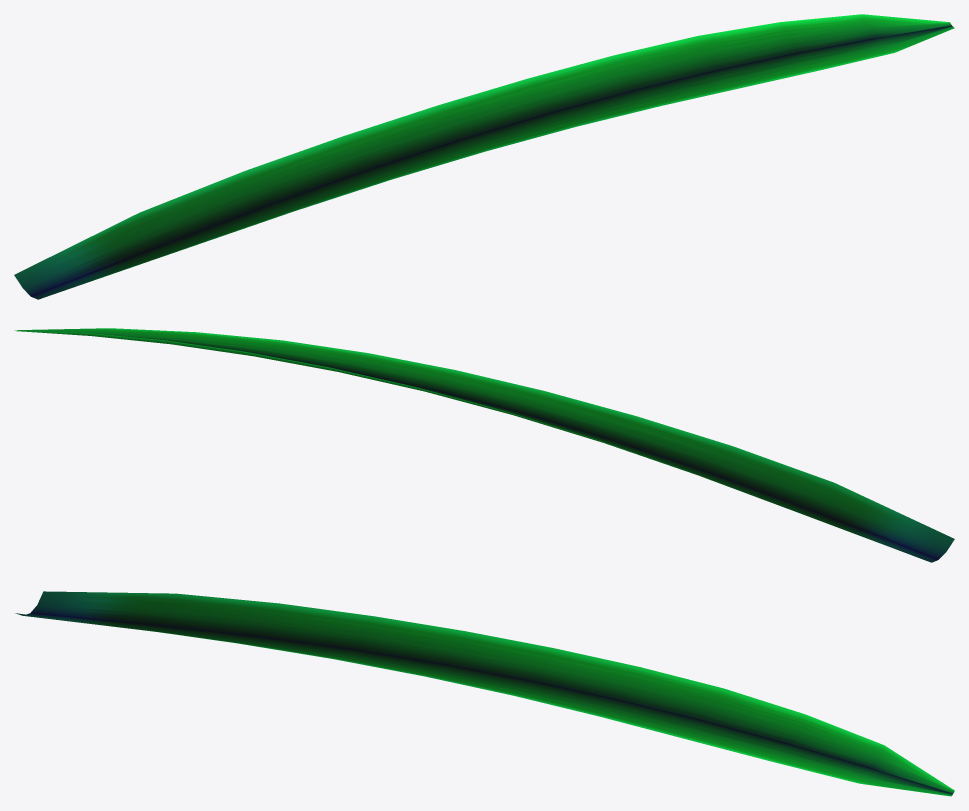
The model's file is IO_FiberPlant_A_Leaf.glb.
3 views of the same model, one above another, from view 1: azimuth 30°, elevation 25°; view 2: azimuth 150°, elevation 25°; view 3: azimuth 330°, elevation 25° (orthographic). The views are drawn at different scales.
Parts seen in each view (by area): view 1: IO_FiberPlant_A_Leaf_LOD0; view 2: IO_FiberPlant_A_Leaf_LOD0; view 3: IO_FiberPlant_A_Leaf_LOD0.
Boxes of the visible parts, <box> form: IO_FiberPlant_A_Leaf_LOD0: <box>14,14,954,299</box>; IO_FiberPlant_A_Leaf_LOD0: <box>15,328,954,562</box>; IO_FiberPlant_A_Leaf_LOD0: <box>15,591,954,796</box>.
Size of what is drawn, in the model's own units: 0.7962 by 0.0584 by 0.0789.
Materials: 1 (1 with a texture image).
